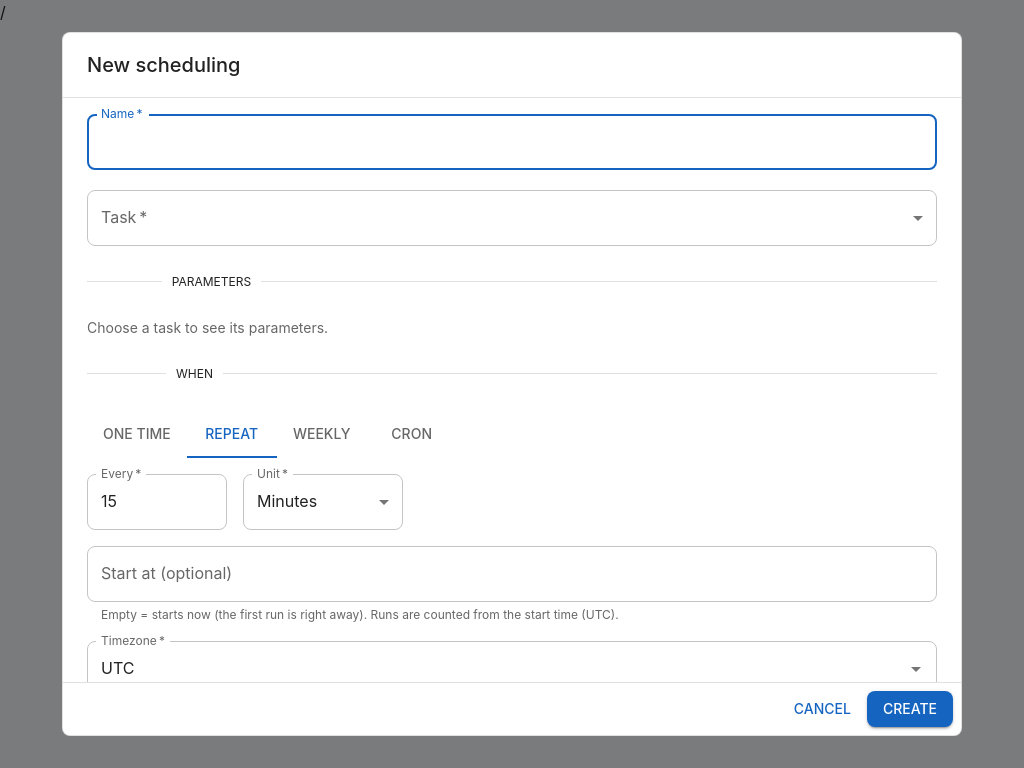
Test: SchedulingFormDialog — create › resets the parameters when another task is chosen
Click the dropdown named "task": (512, 218) [87,190,937,246]
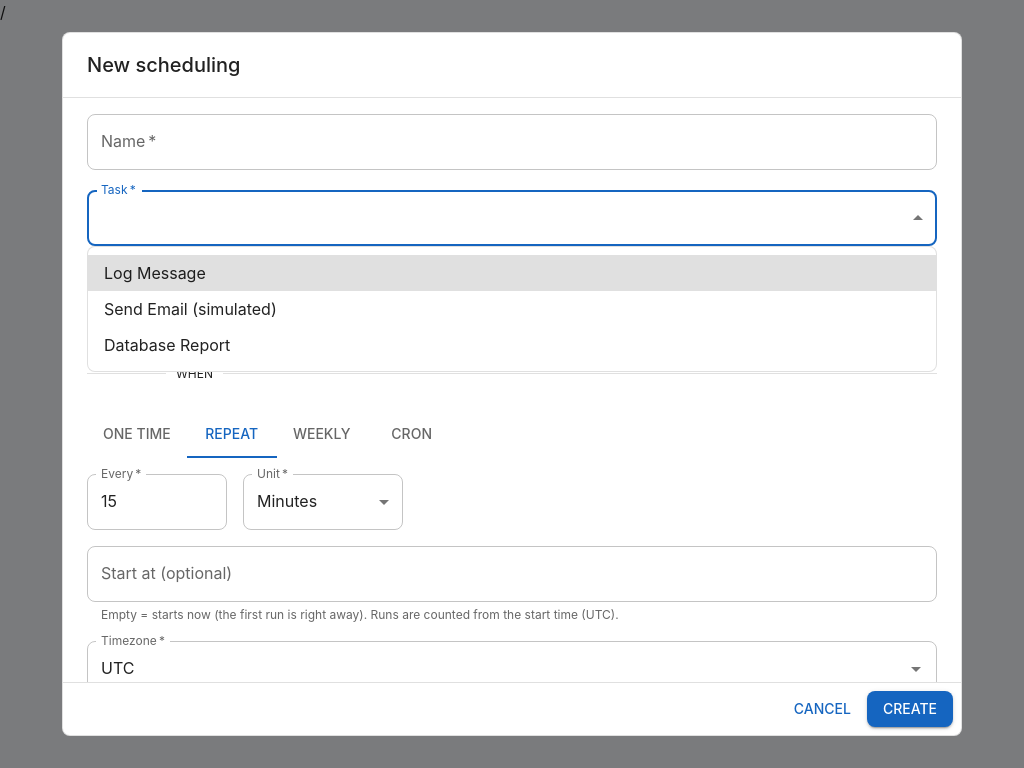
Click the option "Log Message": (155, 273) [88,255,936,291]
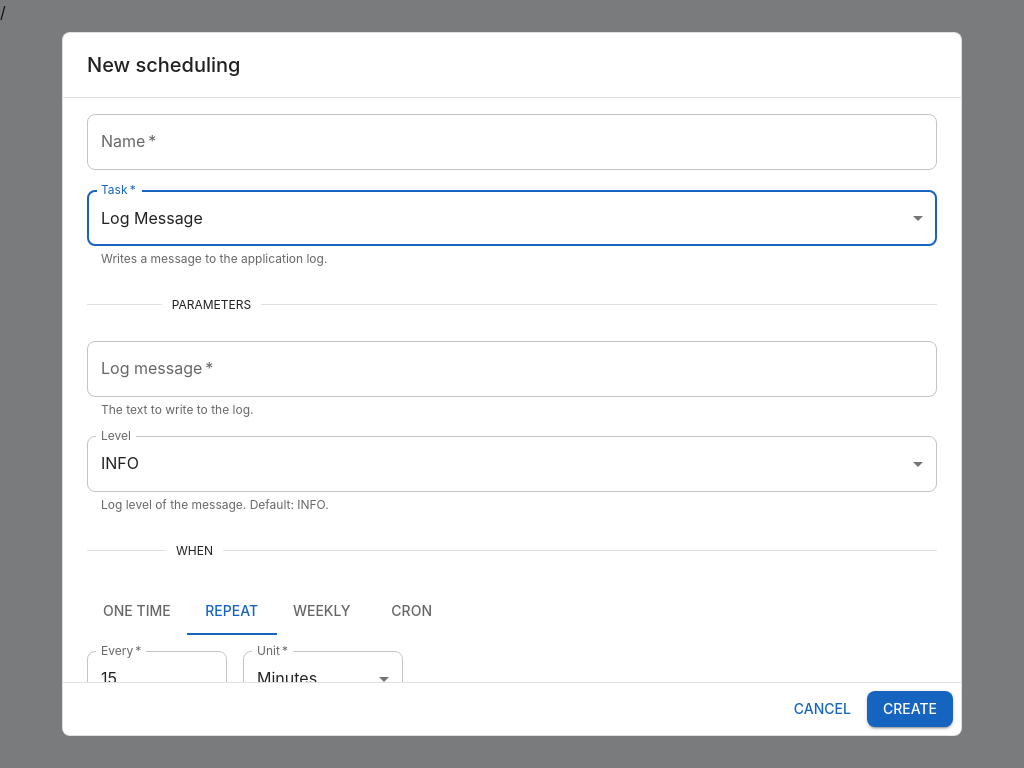
Expected: the field labelled "Log message *" is shown, [87,341,937,397]
Click the dropdown named "task": (152, 218) [101,208,203,228]
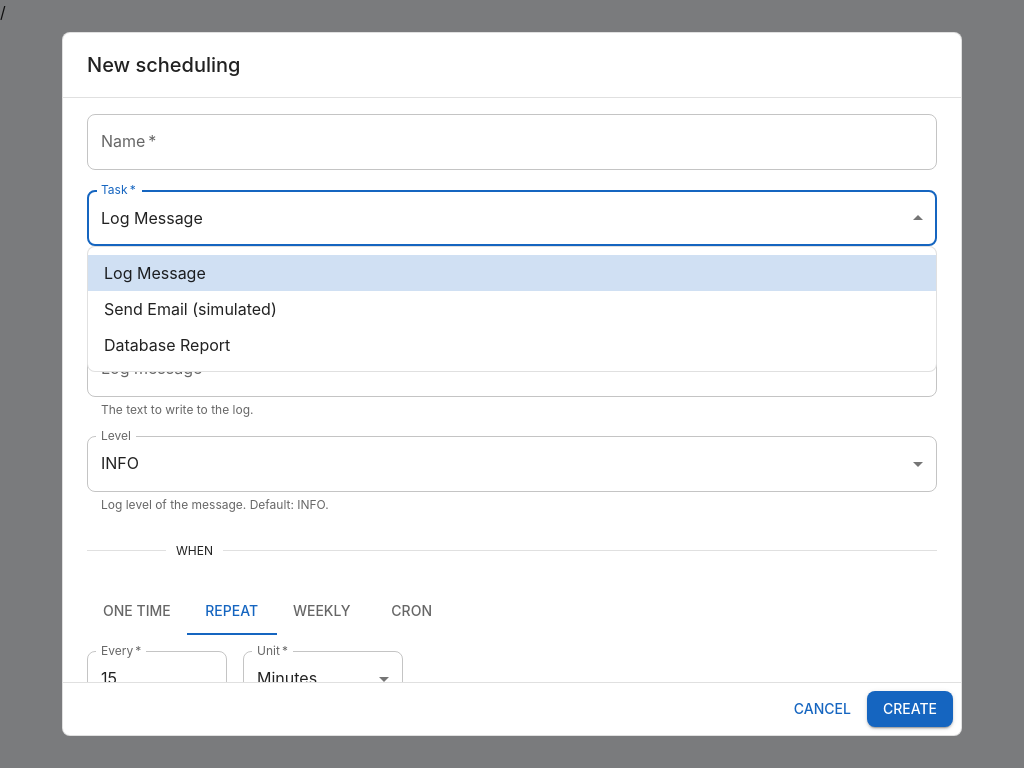
Click the option "Send Email (simulated)": (190, 309) [104,299,277,319]
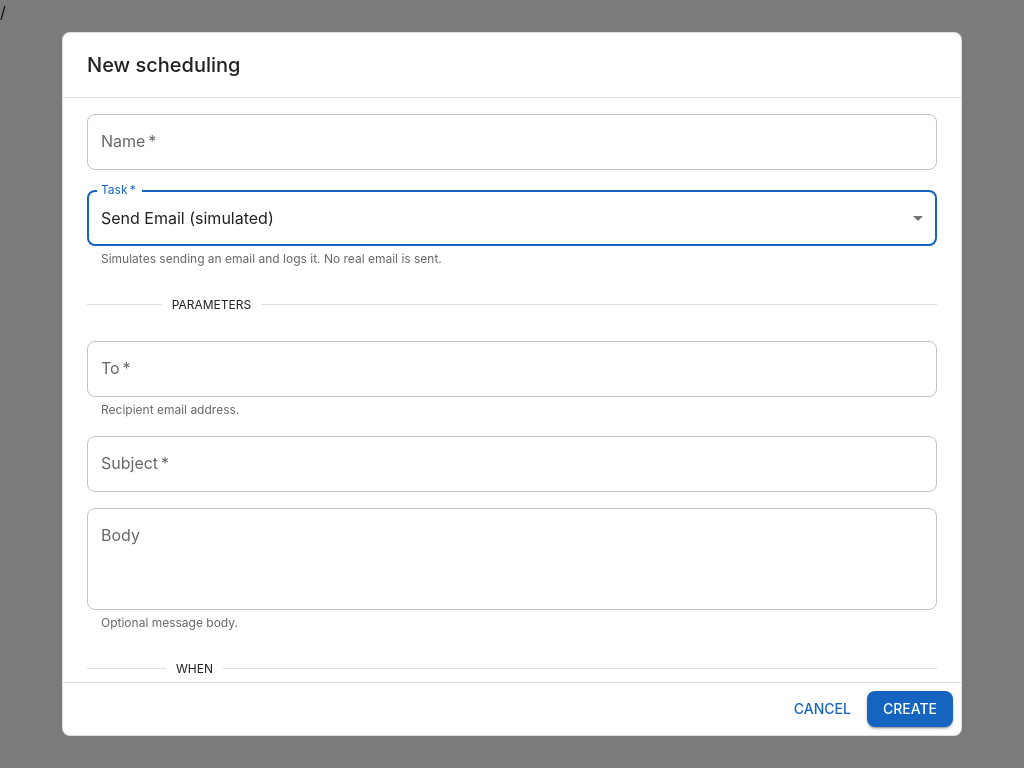
Expected: the dropdown labelled "Log Message" is gone
Expected: the field labelled "To *" is empty, [87,341,937,397]
Expected: the field labelled "Subject *" is shown, [87,436,937,492]
